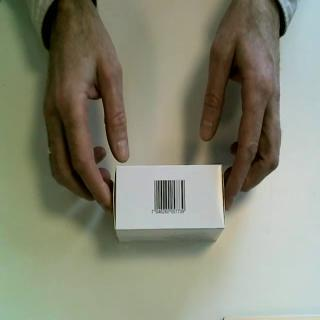oxynorm10mg: (113, 164, 228, 248)
